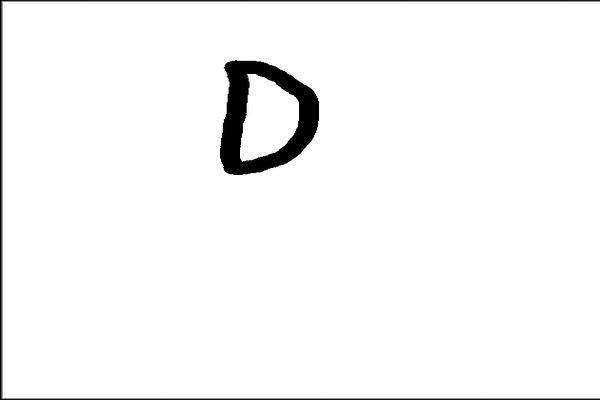D: (214, 55, 325, 181)
